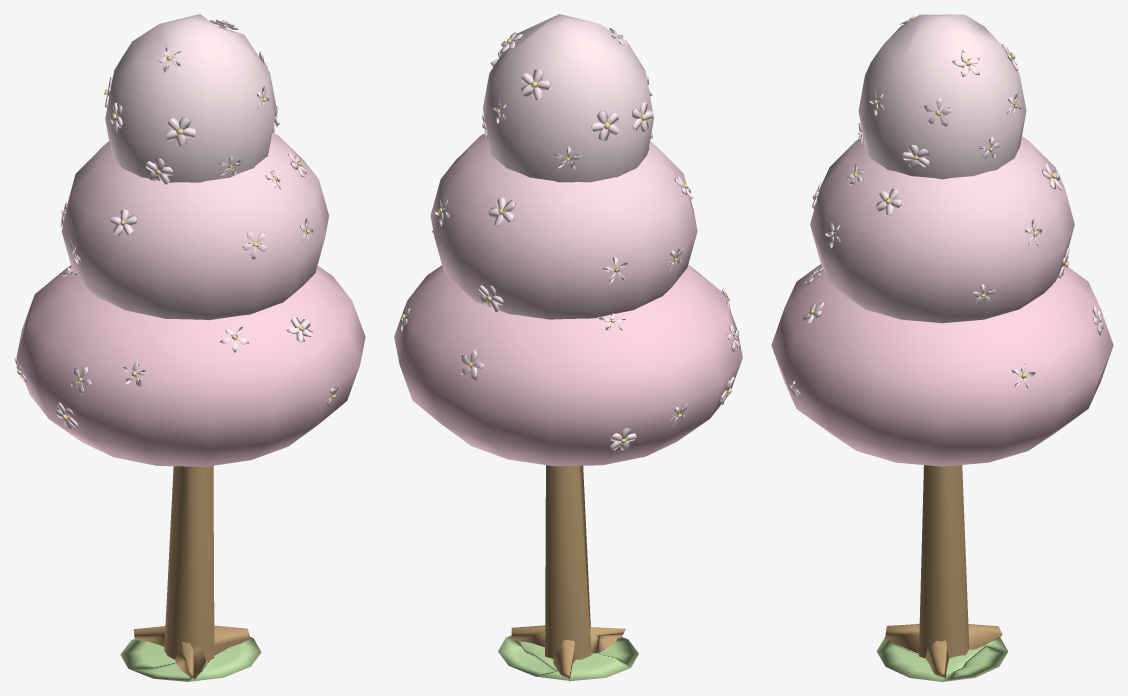
The model's file is tree_v3_spring_low.glb.
3 renders of one model, left to right at view 1: azimuth 30°, elevation 25°; view 2: azimuth 150°, elevation 25°; view 3: azimuth 270°, elevation 25°, orthographic.
Bounding box in the file's own units: 2.75 × 5.45 × 2.65.
